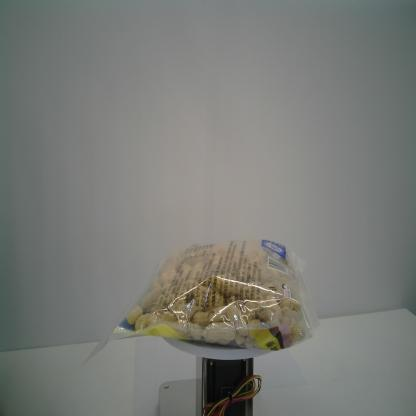Dried Food: (82, 234, 323, 358)
